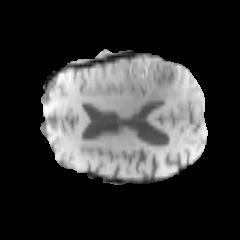glioma: (99, 54, 184, 107)
